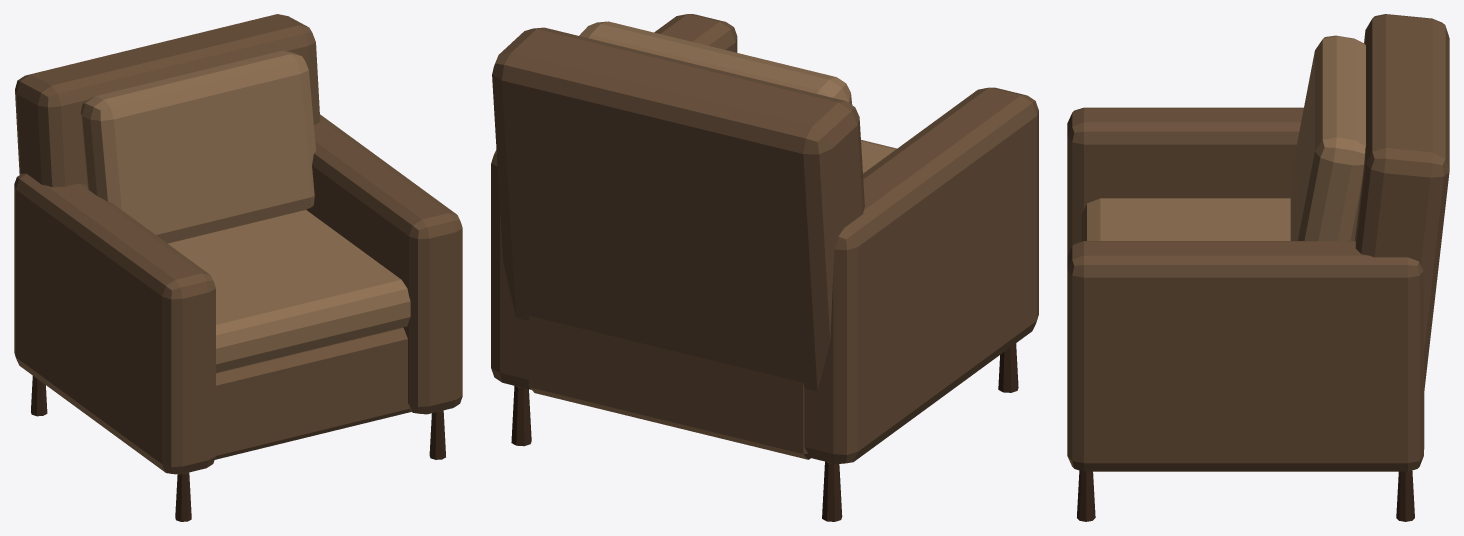
The model's file is armchair.glb.
3 renders of one model, left to right at view 1: azimuth 30°, elevation 25°; view 2: azimuth 150°, elevation 25°; view 3: azimuth 270°, elevation 25°, orthographic. The views are drawn at different scales.
Parts seen in each view (by area): view 1: armchair; view 2: armchair; view 3: armchair.
Boxes of the visible parts, x1,y1,x2,y2 form: armchair: [14, 14, 462, 521]; armchair: [491, 14, 1038, 521]; armchair: [1067, 14, 1449, 521].
Bounding box in the file's own units: 0.8 × 0.85 × 0.8.
